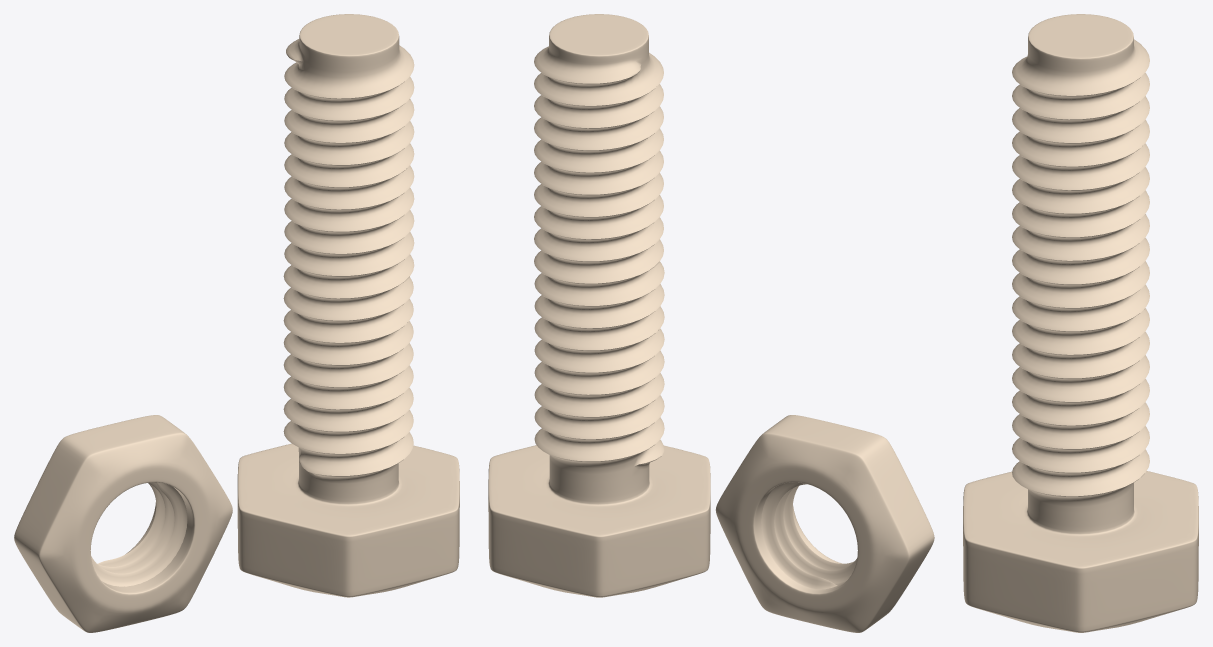
Rendered from Tin Plating.glb.
3 renders of one model, left to right at view 1: azimuth 30°, elevation 25°; view 2: azimuth 150°, elevation 25°; view 3: azimuth 270°, elevation 25°, orthographic. The views are drawn at different scales.
Parts seen in each view (by area): view 1: Hex Screw_nut_; view 2: Hex Screw_nut_; view 3: Hex Screw_nut_.
Boxes of the visible parts, x1=… form: Hex Screw_nut_: x1=14, y1=14, x2=459, y2=632; Hex Screw_nut_: x1=488, y1=14, x2=934, y2=632; Hex Screw_nut_: x1=963, y1=14, x2=1198, y2=632.
Bounding box in the file's own units: 0.0197 × 0.0229 × 0.00879.
1 material, 1 textured.
